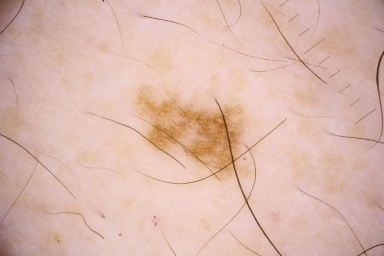nevus: (141, 100, 241, 174)
